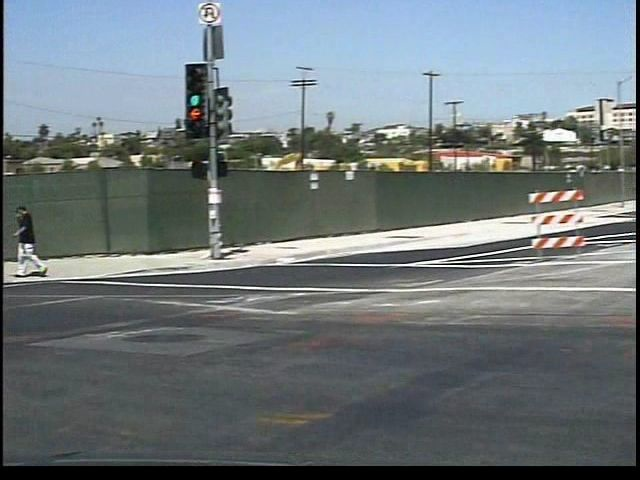person: (5, 199, 42, 286)
